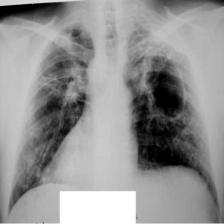tuberculosis: (6, 17, 223, 217)
